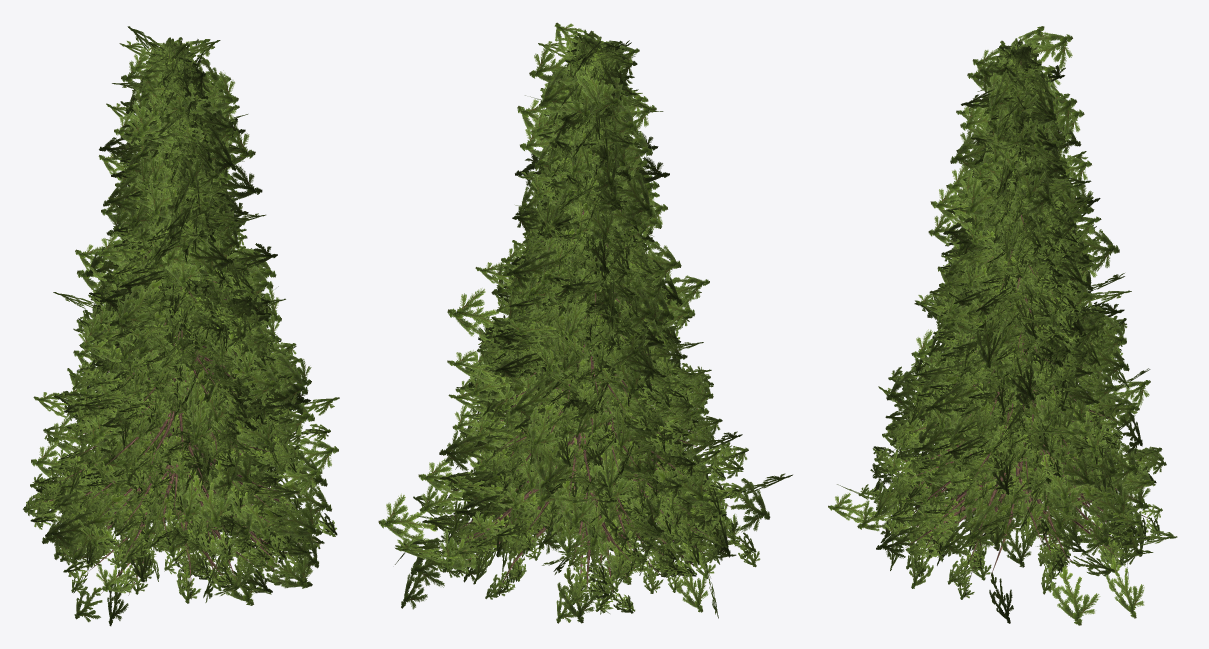
The model's file is spruces.glb.
3 views of the same model, side by side, from view 1: azimuth 30°, elevation 25°; view 2: azimuth 150°, elevation 25°; view 3: azimuth 270°, elevation 25° (orthographic). The views are drawn at different scales.
Parts seen in each view (by area): view 1: pine2_leaves, pine0_far_leaves, pine2_far_leaves, pine1_far_leaves, pine0_leaves, pine1_leaves, pine2_bark, pine0_bark; view 2: pine2_far_leaves, pine0_far_leaves, pine1_far_leaves, pine2_leaves, pine0_leaves, pine1_leaves, pine0_bark, pine2_bark, pine2_far_bark; view 3: pine2_far_leaves, pine2_leaves, pine0_far_leaves, pine1_far_leaves, pine0_leaves, pine1_leaves, pine2_bark, pine2_far_bark, pine1_bark.
Part boxes in pixels (x1=…): pine2_leaves: x1=23, y1=135, x2=337, y2=603; pine0_far_leaves: x1=33, y1=50, x2=331, y2=588; pine2_far_leaves: x1=31, y1=104, x2=339, y2=605; pine1_far_leaves: x1=39, y1=26, x2=318, y2=626; pine0_leaves: x1=33, y1=70, x2=300, y2=575; pine1_leaves: x1=54, y1=37, x2=307, y2=594; pine2_bark: x1=34, y1=251, x2=303, y2=587; pine0_bark: x1=50, y1=221, x2=289, y2=564; pine2_far_leaves: x1=378, y1=88, x2=792, y2=609; pine0_far_leaves: x1=418, y1=31, x2=740, y2=623; pine1_far_leaves: x1=439, y1=22, x2=736, y2=623; pine2_leaves: x1=433, y1=111, x2=760, y2=605; pine0_leaves: x1=434, y1=70, x2=728, y2=614; pine1_leaves: x1=479, y1=29, x2=723, y2=601; pine0_bark: x1=458, y1=242, x2=709, y2=594; pine2_bark: x1=454, y1=262, x2=741, y2=593; pine2_far_bark: x1=440, y1=313, x2=730, y2=580; pine2_far_leaves: x1=828, y1=122, x2=1177, y2=625; pine2_leaves: x1=858, y1=114, x2=1162, y2=585; pine0_far_leaves: x1=878, y1=64, x2=1163, y2=570; pine1_far_leaves: x1=876, y1=26, x2=1161, y2=623; pine0_leaves: x1=885, y1=77, x2=1166, y2=594; pine1_leaves: x1=890, y1=38, x2=1117, y2=599; pine2_bark: x1=877, y1=234, x2=1153, y2=566; pine2_far_bark: x1=900, y1=284, x2=1137, y2=563; pine1_bark: x1=924, y1=215, x2=1089, y2=578.
Bounding box in the file's own units: 11.67 × 19.91 × 12.02.
2 materials, 2 textured.
